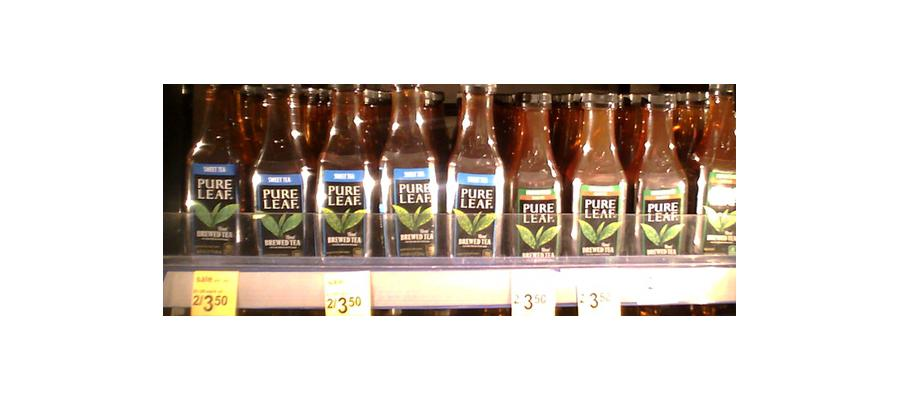bottle: (442, 79, 504, 262), (181, 78, 243, 260), (312, 83, 376, 258), (379, 83, 442, 259), (245, 83, 309, 256), (568, 86, 630, 263), (505, 88, 564, 266), (631, 89, 688, 259), (694, 78, 740, 252)
